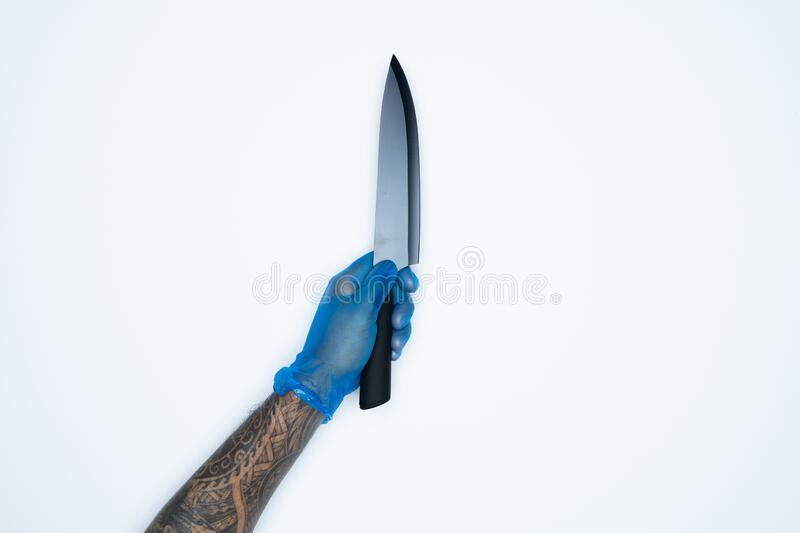weapon: (357, 50, 422, 412)
